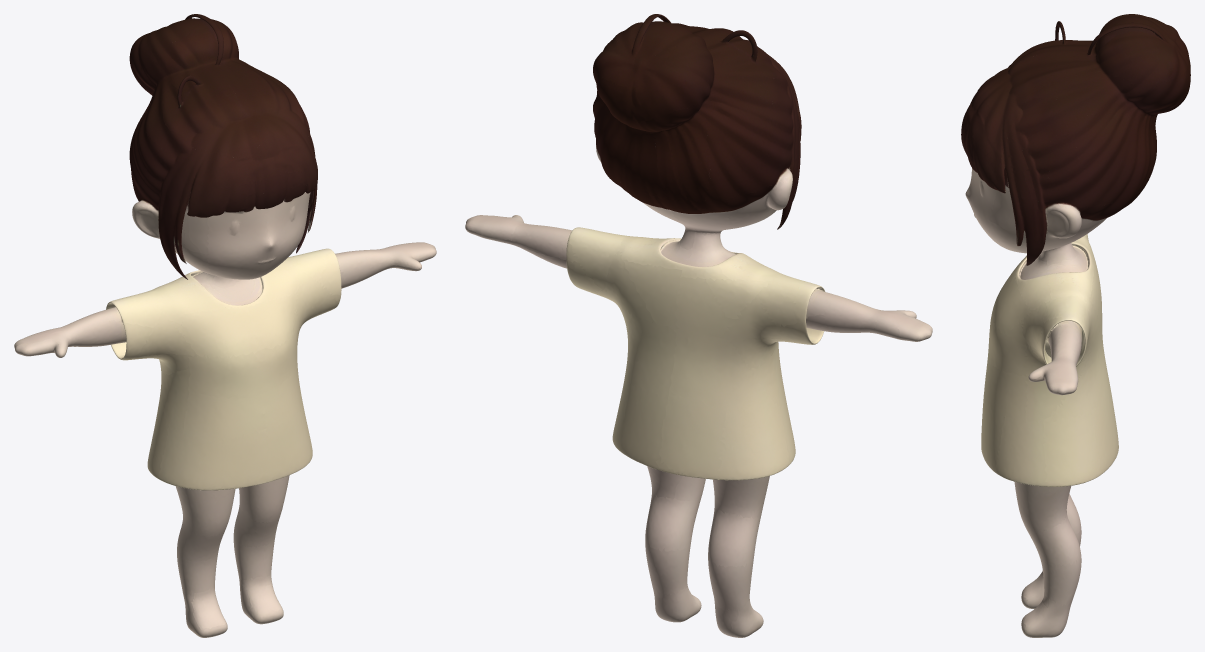
File: baked_hair_bun.glb
3 views of the same model, side by side, from view 1: azimuth 30°, elevation 25°; view 2: azimuth 150°, elevation 25°; view 3: azimuth 270°, elevation 25° (orthographic). The views are drawn at different scales.
Size of the model in its own units: 1.45 by 1.9 by 0.6571.
Materials: 1 (1 with a texture image).
